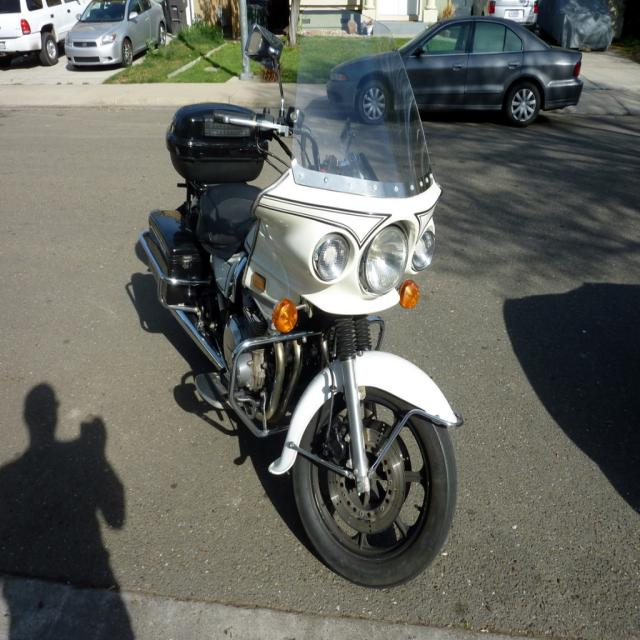car: (538, 0, 613, 48)
